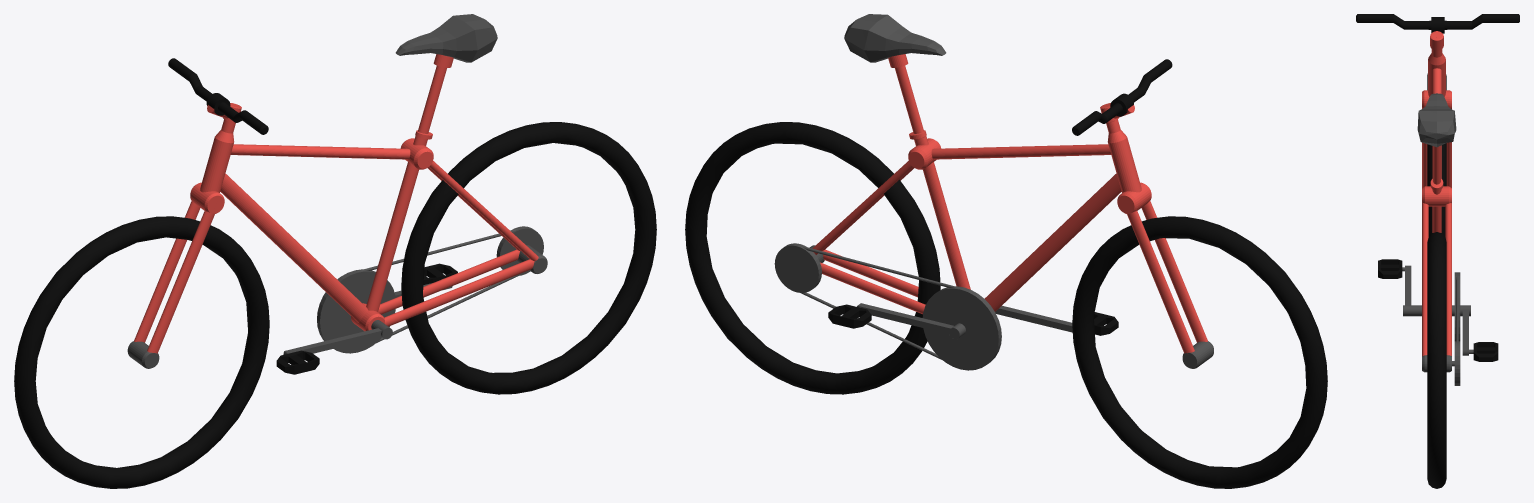
The model's file is low-poly-bycicle-a6b576.glb.
The picture shows the model from 3 angles, left to right: view 1: azimuth 30°, elevation 25°; view 2: azimuth 150°, elevation 25°; view 3: azimuth 270°, elevation 25°; orthographic projection. The views are drawn at different scales.
Visible parts, largest first — view 1: PropMesh; view 2: PropMesh; view 3: PropMesh.
Part boxes in pixels (bbox=[...]): PropMesh: bbox=[14, 14, 656, 488]; PropMesh: bbox=[685, 14, 1327, 488]; PropMesh: bbox=[1356, 14, 1519, 488].
Bounding box in the file's own units: 1.7 × 0.975 × 0.4274.
